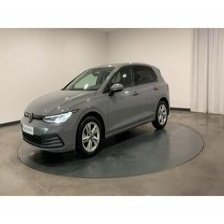car: (17, 57, 173, 159)
